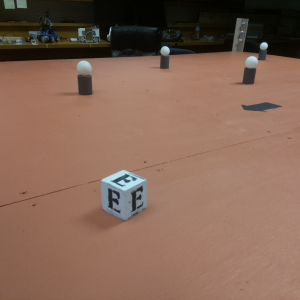blockE: (101, 169, 148, 221)
corner: (233, 16, 248, 52)
obstacle: (76, 61, 93, 96), (241, 56, 258, 85), (158, 46, 170, 69), (259, 42, 269, 59)
start: (240, 101, 282, 116)
